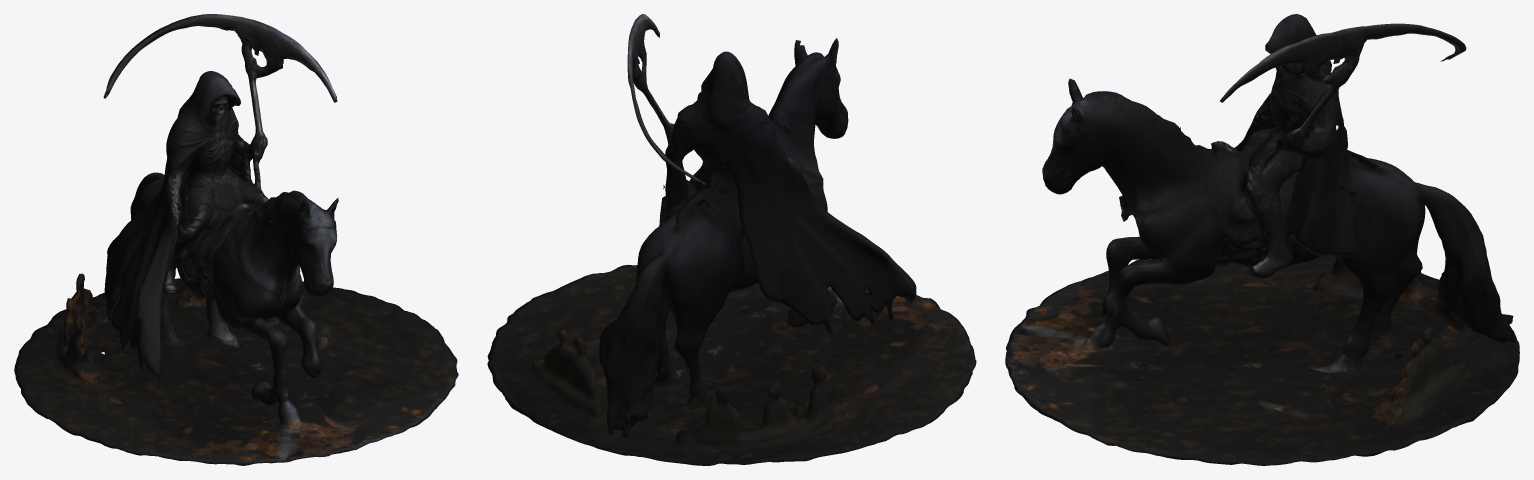
File: death.glb
3 views of the same model, side by side, from view 1: azimuth 30°, elevation 25°; view 2: azimuth 150°, elevation 25°; view 3: azimuth 270°, elevation 25° (orthographic). The views are drawn at different scales.
Size of the model in its own units: 1.99 by 1.56 by 2.
Materials: 1 (1 with a texture image).
